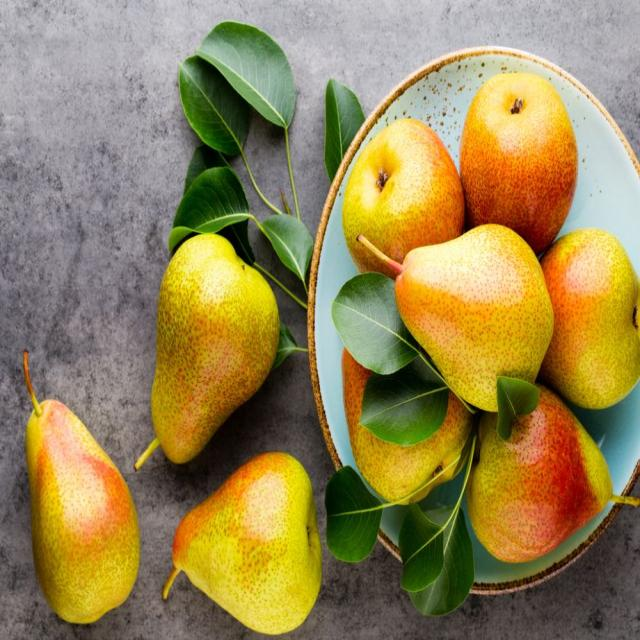pear: (356, 230, 557, 413), (134, 226, 279, 469), (18, 358, 144, 630), (162, 453, 325, 634), (469, 384, 638, 557), (459, 67, 579, 255), (340, 343, 470, 497), (338, 118, 464, 273), (536, 222, 640, 408)
